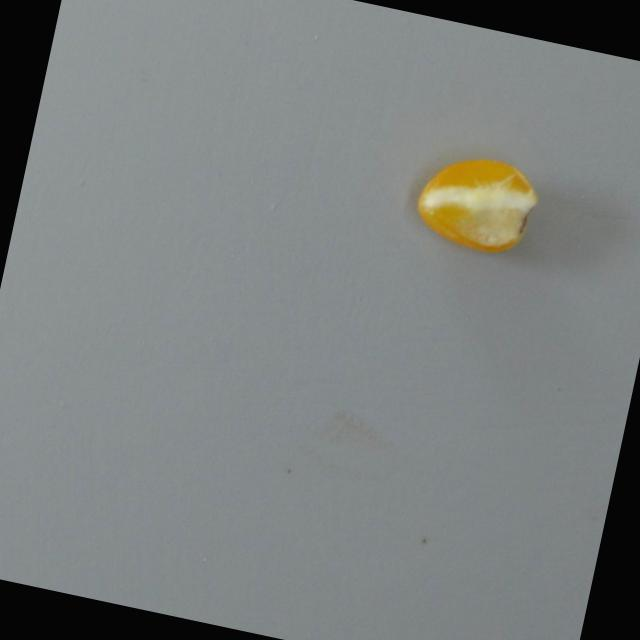punto_negro: (409, 143, 545, 261)
